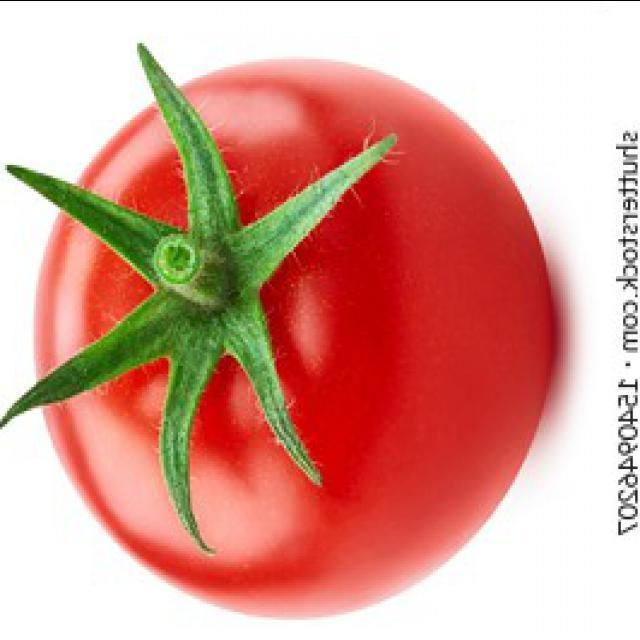Tomato: (0, 46, 559, 623)
